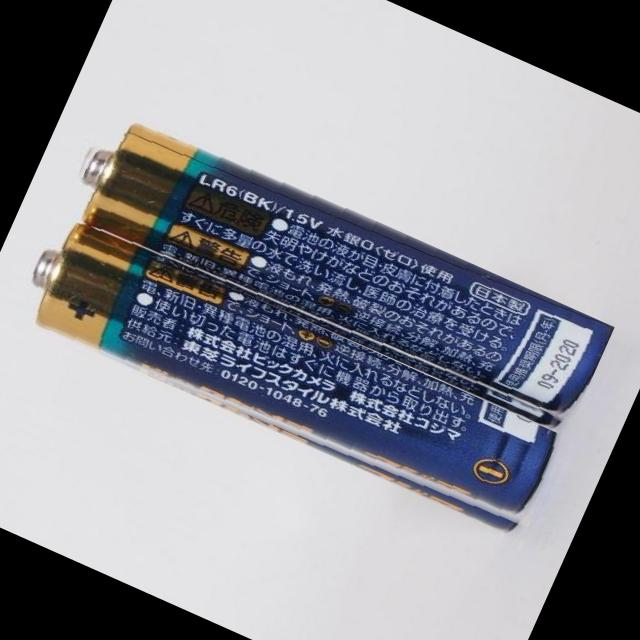Hazard: (53, 98, 615, 440), (10, 210, 568, 546)
